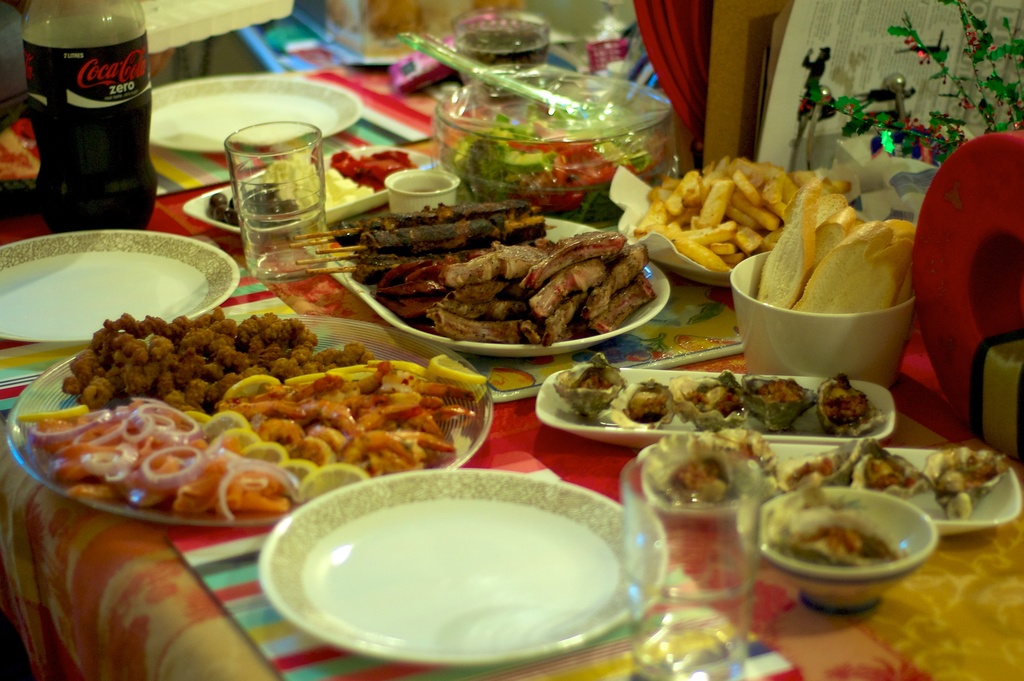can: (20, 0, 155, 234)
